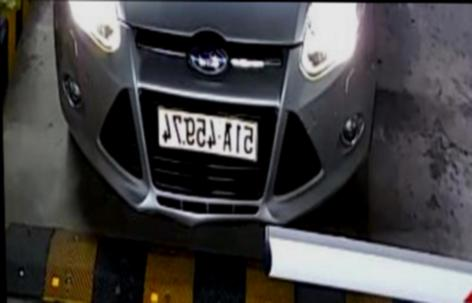License_Plate: (151, 106, 264, 167)
